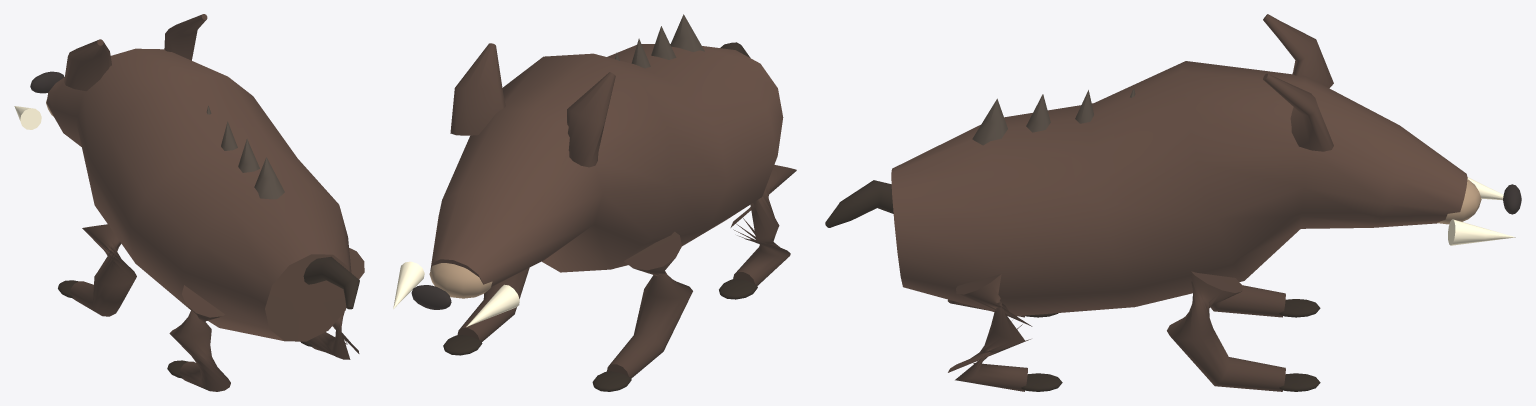
The model's file is boar_hero.glb.
3 views of the same model, side by side, from view 1: azimuth 30°, elevation 25°; view 2: azimuth 150°, elevation 25°; view 3: azimuth 270°, elevation 25° (orthographic). The views are drawn at different scales.
Parts seen in each view (by area): view 1: BoarOrganicBody, Leg_LH, Leg_LF, Ear, Tail, Leg_RH, Ear2, BackBristle_00, Nose, Tusk_L, BackBristle_01; view 2: BoarOrganicBody, Leg_LF, Ear2, Leg_LH, Ear, Snout, Leg_RF, Tusk_L, Nose, Tusk_R, BackBristle_00, Paw_LF (+3 smaller); view 3: BoarOrganicBody, Leg_RF, Leg_RH, Ear2, Ear, Tail, Leg_LF, Tusk_R, BackBristle_00, Snout, Paw_RH, Paw_RF (+1 smaller).
Part boxes in pixels (box(x1,y1,x2,y2)): BoarOrganicBody: box(46, 48, 351, 341); Leg_LH: box(169, 285, 230, 391); Leg_LF: box(70, 224, 136, 316); Ear: box(64, 39, 111, 91); Tail: box(303, 256, 359, 309); Leg_RH: box(309, 248, 364, 359); Ear2: box(164, 14, 207, 60); BackBristle_00: box(254, 157, 284, 199); Nose: box(30, 71, 64, 93); Tusk_L: box(14, 106, 41, 129); BackBristle_01: box(238, 139, 259, 172); BoarOrganicBody: box(430, 44, 783, 286); Leg_LF: box(607, 231, 692, 378); Ear2: box(450, 43, 505, 135); Leg_LH: box(730, 165, 796, 285); Ear: box(567, 72, 615, 167); Snout: box(429, 263, 492, 298); Leg_RF: box(457, 268, 529, 341); Tusk_L: box(466, 284, 519, 326); Nose: box(411, 285, 451, 309); Tusk_R: box(393, 261, 424, 309); BackBristle_00: box(670, 14, 704, 51); Paw_LF: box(592, 371, 631, 391); BoarOrganicBody: box(891, 61, 1467, 316); Leg_RF: box(1167, 271, 1285, 391); Leg_RH: box(948, 274, 1032, 391); Ear2: box(1263, 73, 1333, 151); Ear: box(1263, 14, 1333, 88); Tail: box(825, 180, 893, 227); Leg_LF: box(1210, 285, 1285, 317); Tusk_R: box(1448, 219, 1515, 245); BackBristle_00: box(972, 98, 1007, 145); Snout: box(1437, 179, 1481, 224); Paw_RH: box(1021, 373, 1062, 391); Paw_RF: box(1279, 373, 1320, 391).
Size of the model in its own units: 1.63 by 2.3 by 4.7.
